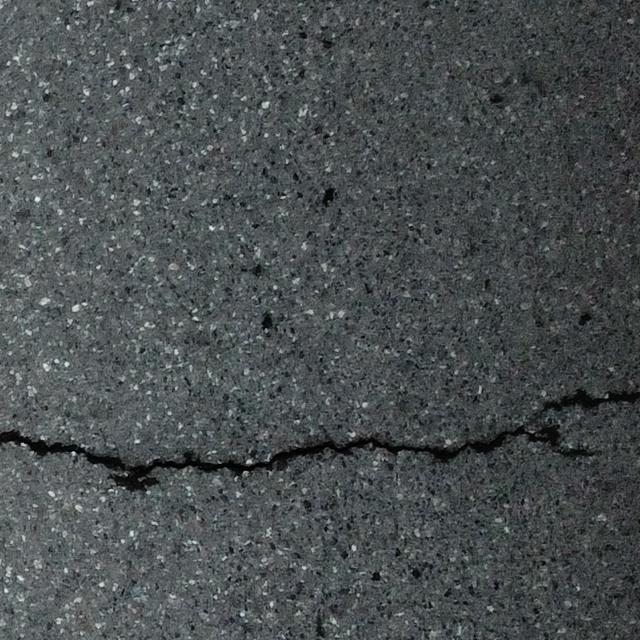TransverseCrack: (1, 386, 639, 492)
